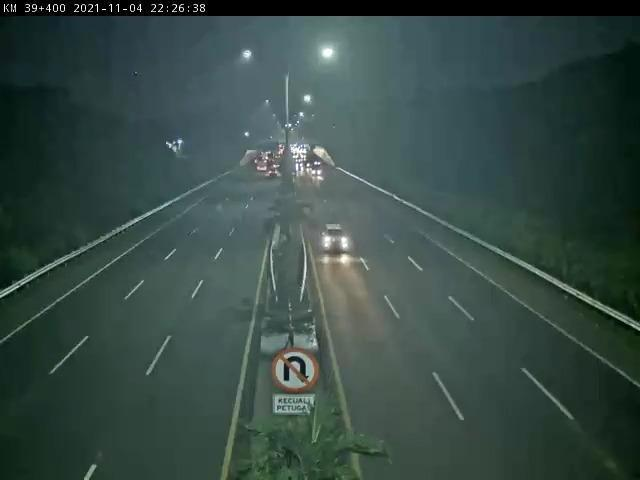car: (319, 216, 353, 266), (311, 160, 324, 183), (257, 161, 269, 178)
